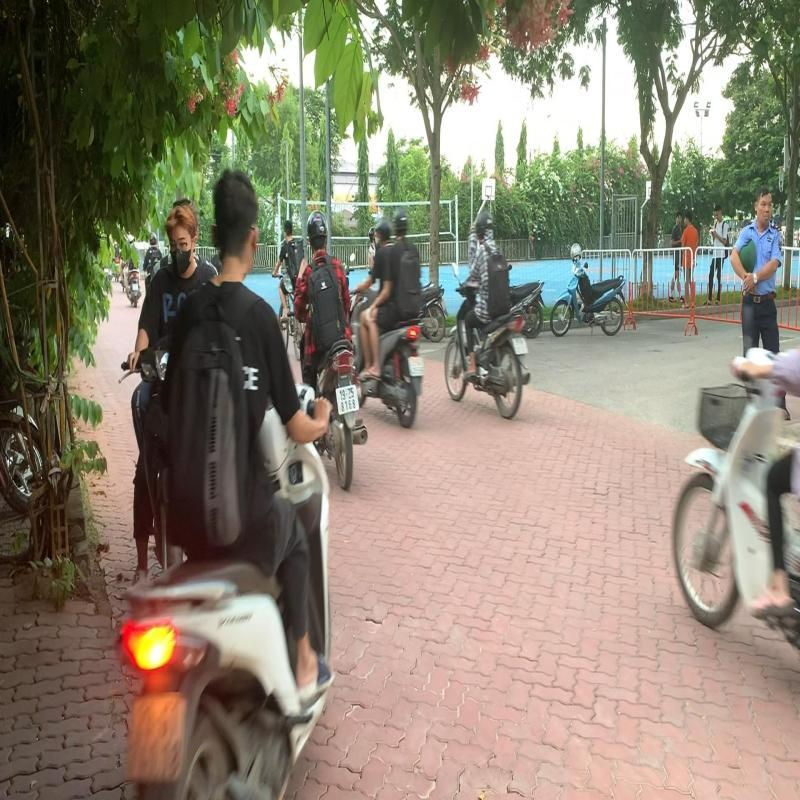nohelmet: (204, 161, 268, 275)
